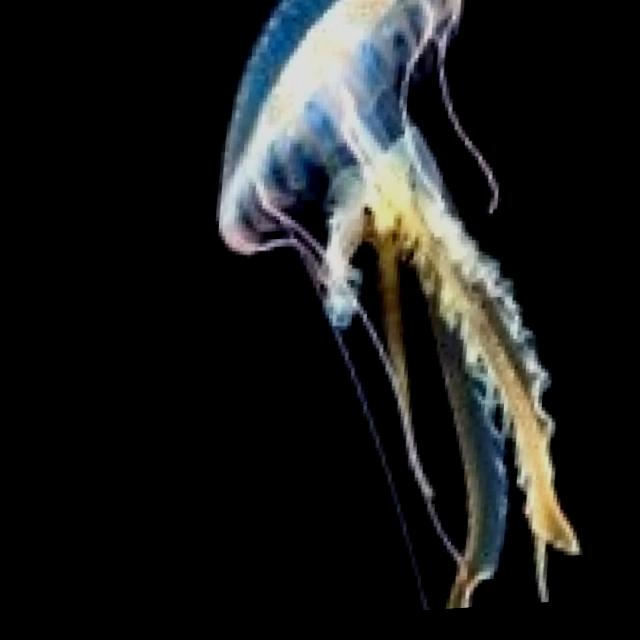Box-jellyfish: (182, 0, 630, 630)
